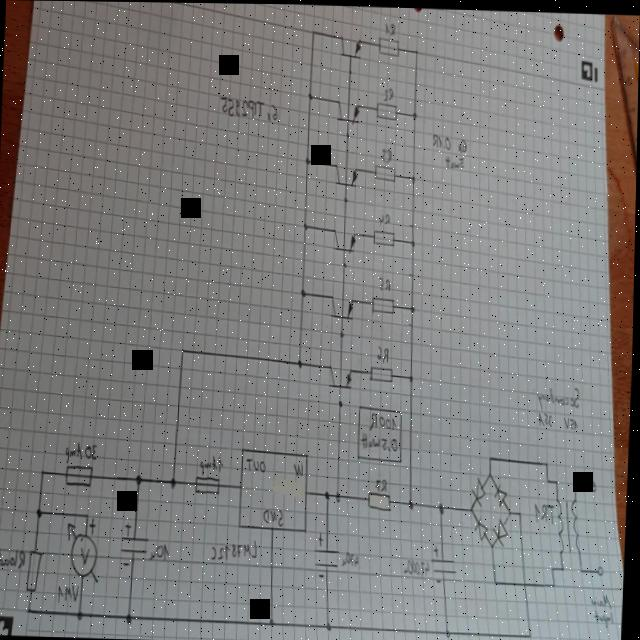capacitor: (315, 528, 343, 578), (122, 520, 152, 566), (432, 542, 461, 582)
crossover: (525, 578, 530, 586)
diode: (496, 516, 512, 545), (474, 475, 489, 503), (476, 515, 491, 539), (496, 482, 510, 504)
junction: (171, 473, 179, 489), (136, 472, 145, 486), (128, 610, 136, 625), (326, 487, 333, 499), (337, 490, 344, 501), (441, 500, 447, 512), (410, 497, 416, 509), (447, 626, 454, 636), (39, 507, 45, 518), (329, 619, 335, 630), (80, 609, 86, 619), (411, 301, 417, 311), (302, 287, 308, 297), (342, 259, 349, 267), (339, 397, 345, 406), (412, 171, 417, 181), (472, 503, 477, 513), (495, 576, 501, 584), (340, 329, 346, 337), (29, 604, 34, 613), (413, 108, 418, 117), (412, 236, 417, 245), (300, 358, 305, 367), (308, 90, 313, 99), (410, 371, 415, 380), (43, 466, 48, 475), (306, 155, 311, 164), (346, 129, 351, 138), (552, 564, 558, 571), (343, 194, 349, 201), (304, 221, 309, 229), (554, 578, 559, 586), (87, 511, 92, 519), (182, 345, 187, 353), (273, 616, 278, 624), (531, 629, 536, 637), (490, 468, 495, 476), (492, 539, 497, 547), (510, 506, 515, 514), (348, 65, 353, 73), (548, 473, 552, 482), (576, 477, 580, 485), (557, 476, 561, 484), (582, 563, 586, 571), (491, 452, 495, 460), (520, 506, 524, 514), (547, 457, 551, 465), (311, 27, 316, 33), (415, 47, 419, 54), (563, 563, 567, 570)
resistor: (28, 548, 45, 592), (370, 489, 395, 510), (372, 293, 397, 313), (370, 363, 395, 382), (376, 100, 399, 120), (375, 162, 397, 182), (373, 227, 397, 245), (379, 34, 400, 54)
terminal: (593, 477, 600, 490), (600, 563, 607, 573)
text: (212, 535, 261, 562), (538, 383, 583, 408), (220, 95, 265, 120), (362, 430, 401, 450), (67, 439, 100, 461), (0, 545, 29, 568), (201, 453, 226, 474), (59, 582, 82, 604), (406, 556, 433, 574), (373, 412, 401, 429), (264, 505, 287, 525), (431, 131, 452, 152), (536, 500, 556, 522), (152, 541, 173, 560), (597, 607, 617, 625), (593, 590, 615, 606), (343, 549, 362, 567), (248, 456, 269, 471), (445, 153, 465, 167), (266, 101, 279, 122), (539, 409, 555, 426), (565, 413, 581, 429), (379, 342, 391, 362), (456, 134, 469, 152), (294, 459, 307, 475), (380, 273, 392, 290), (382, 144, 394, 161), (383, 19, 396, 34), (378, 475, 390, 490), (380, 209, 392, 223), (384, 84, 394, 99)
transformer: (556, 494, 586, 552)
transistor: (329, 362, 356, 388), (333, 226, 358, 253), (337, 97, 362, 124), (331, 293, 356, 319), (335, 161, 360, 186), (338, 33, 362, 59)
